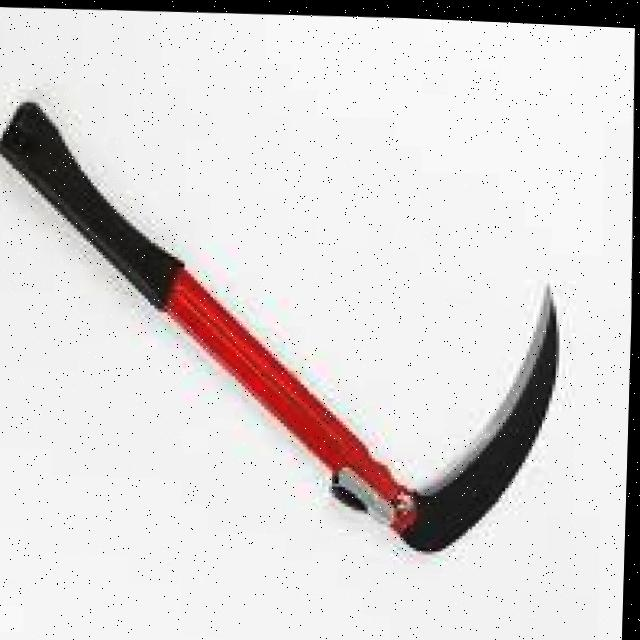sickle: (0, 33, 588, 633)
